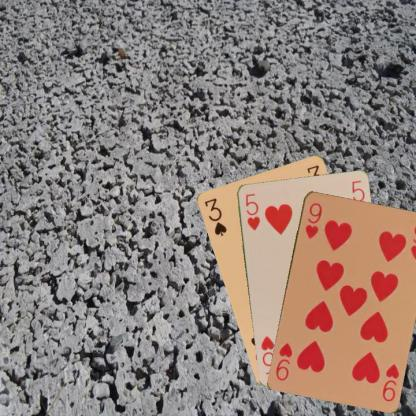3s: (201, 196, 228, 238)
5h: (243, 190, 261, 232)
9h: (302, 200, 323, 240), (380, 360, 400, 402)
